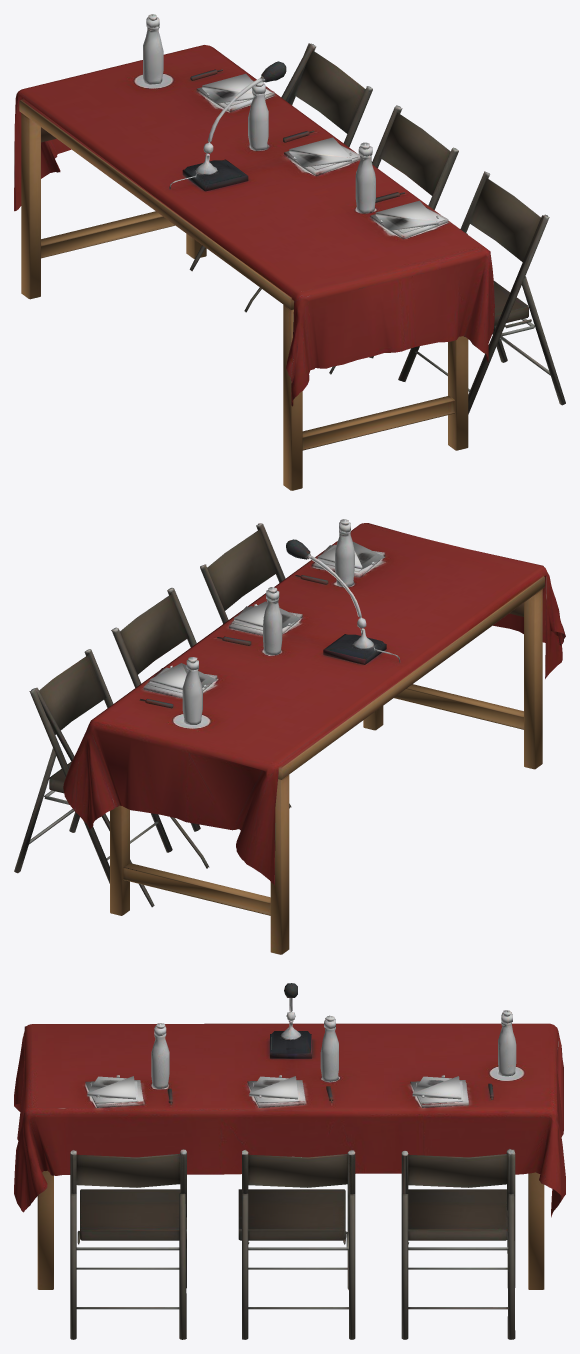
The model's file is judges.glb.
3 renders of one model, top to bottom at view 1: azimuth 30°, elevation 25°; view 2: azimuth 150°, elevation 25°; view 3: azimuth 270°, elevation 25°, orthographic. The views are drawn at different scales.
Visible parts, largest first — view 1: tripo_node_eb8bf882-0413-4fb5-8094-bed2a3e827ff; view 2: tripo_node_eb8bf882-0413-4fb5-8094-bed2a3e827ff; view 3: tripo_node_eb8bf882-0413-4fb5-8094-bed2a3e827ff.
Part boxes in pixels (box(x1,y1,x2,y2)): tripo_node_eb8bf882-0413-4fb5-8094-bed2a3e827ff: box(14, 14, 565, 490); tripo_node_eb8bf882-0413-4fb5-8094-bed2a3e827ff: box(14, 519, 565, 954); tripo_node_eb8bf882-0413-4fb5-8094-bed2a3e827ff: box(14, 983, 565, 1339).
Bounding box in the file's own units: 0.5996 × 0.5645 × 0.998.
Materials: 1 (1 with a texture image).
